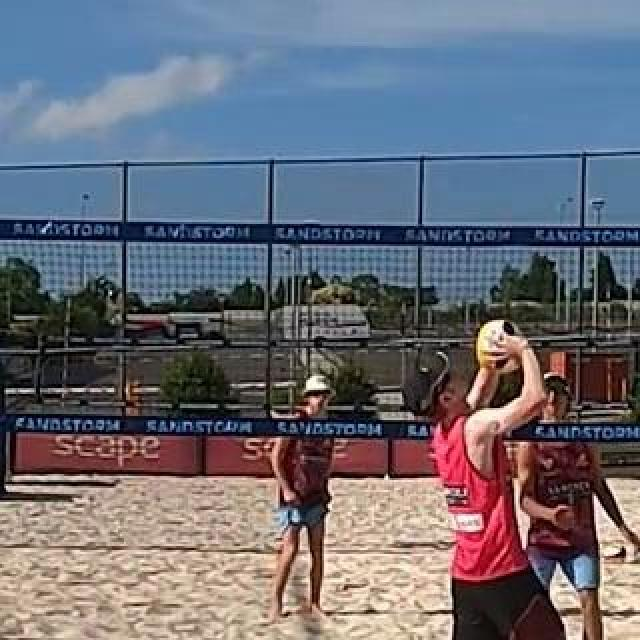volleyball: (473, 318, 525, 376), (603, 539, 629, 567)
